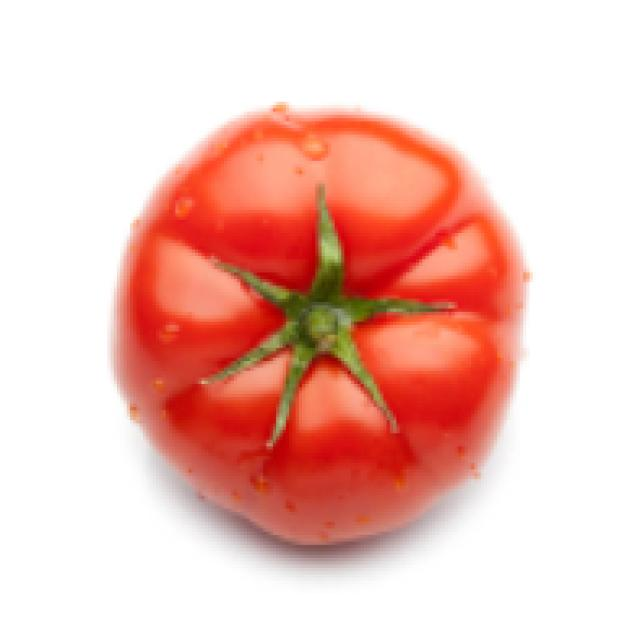Tomato: (119, 108, 532, 537)
